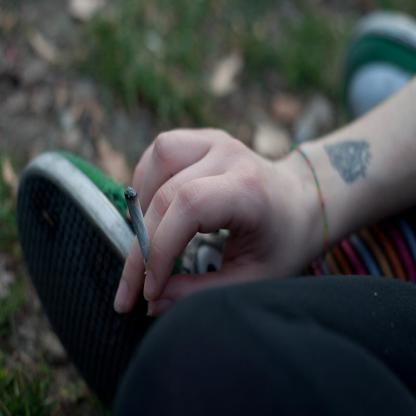smoking: (125, 186, 157, 284)
